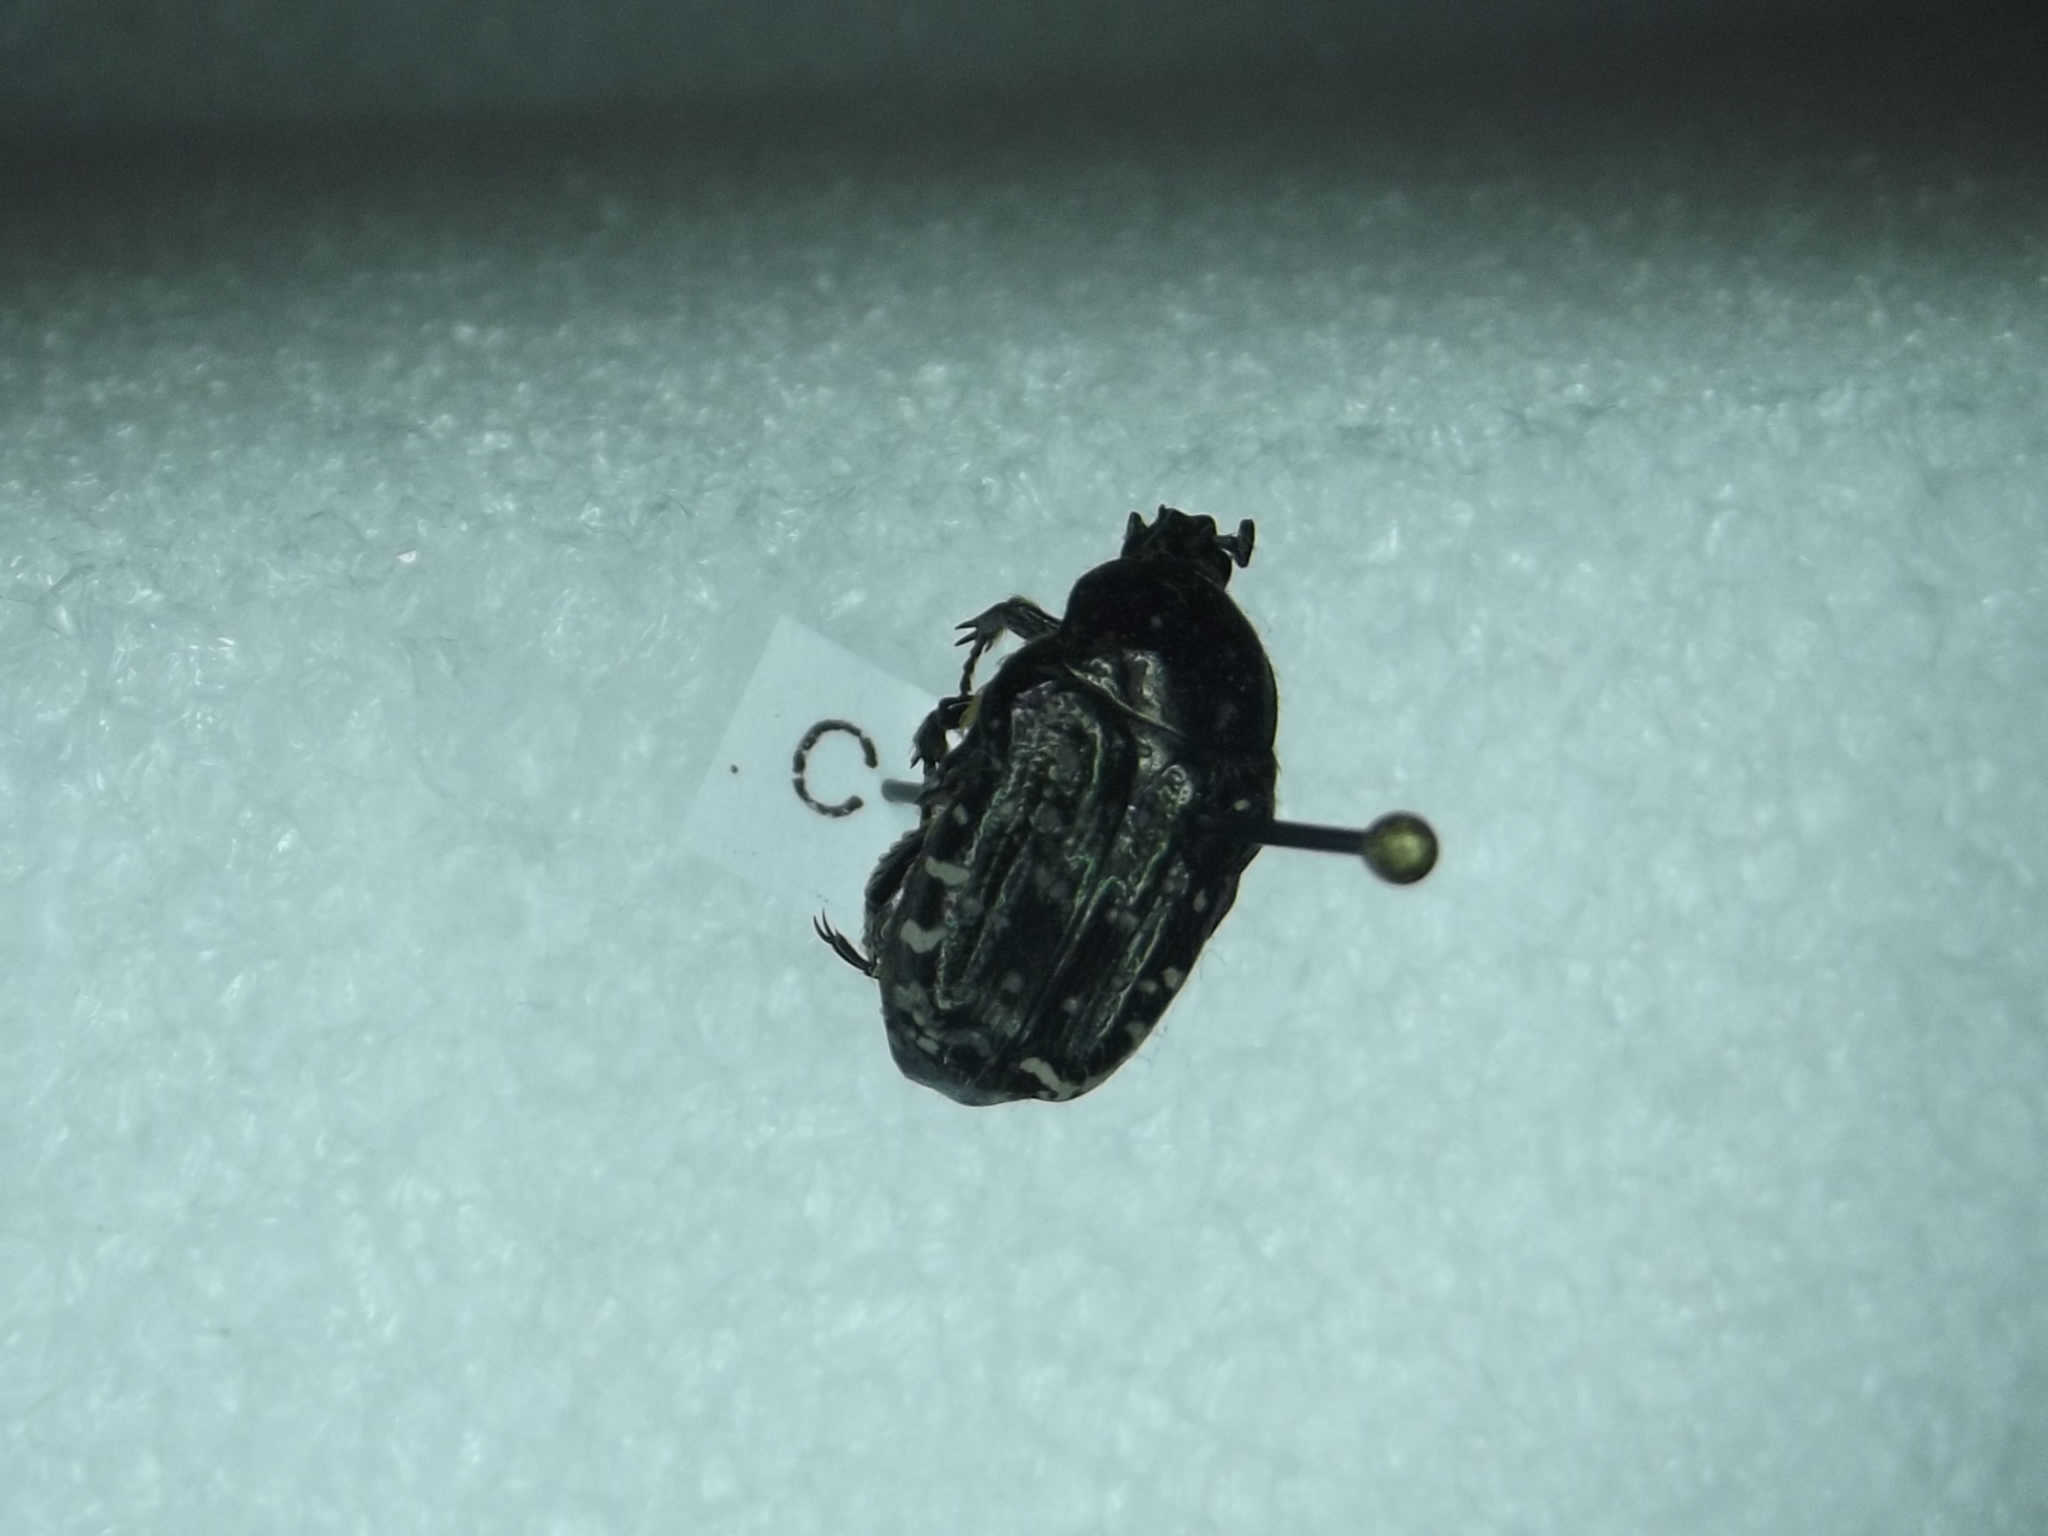Oxythyrea_albopicta: (813, 460, 1292, 1129)
